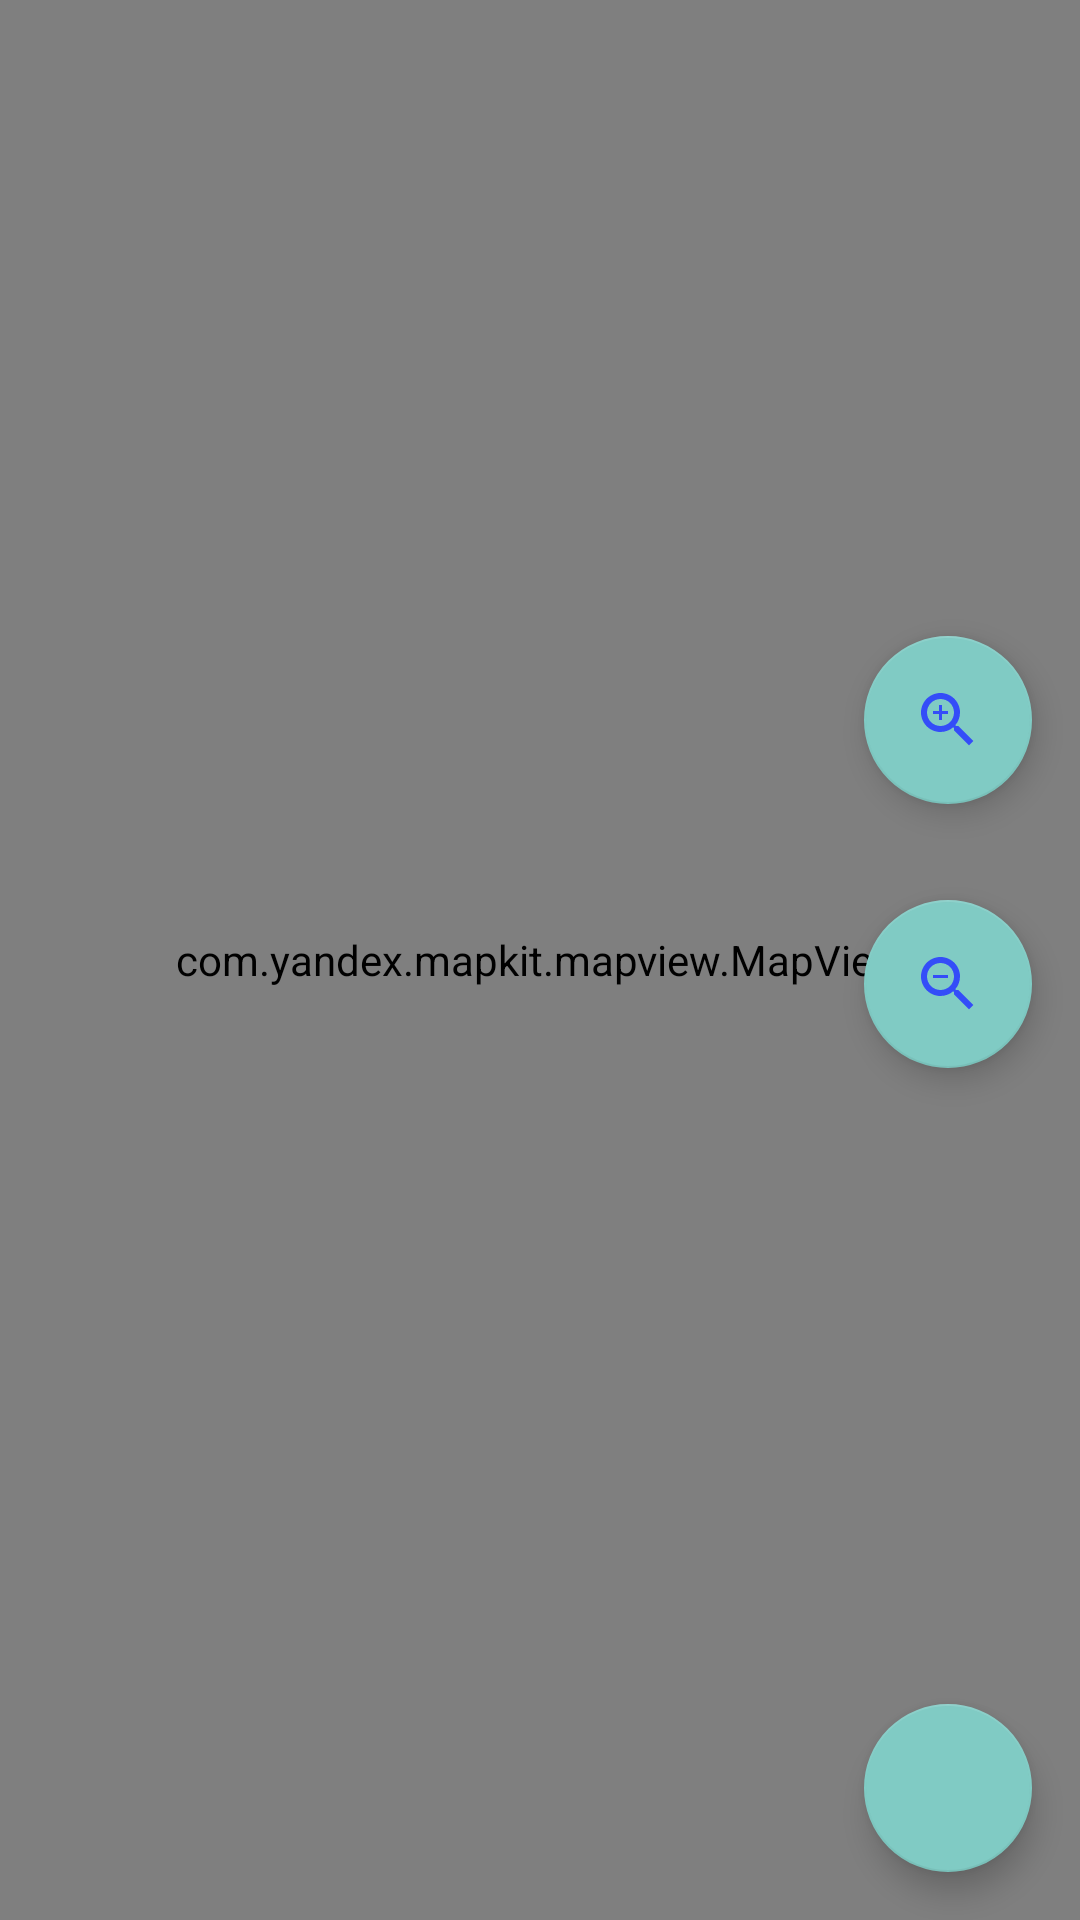

Where icons sit on this 1080px×1920px app screen, as {"left": x1, "top": y1, "right": x2, "bottom": y2}:
zoom in: {"left": 864, "top": 636, "right": 1032, "bottom": 804}
zoom out: {"left": 864, "top": 900, "right": 1032, "bottom": 1068}
